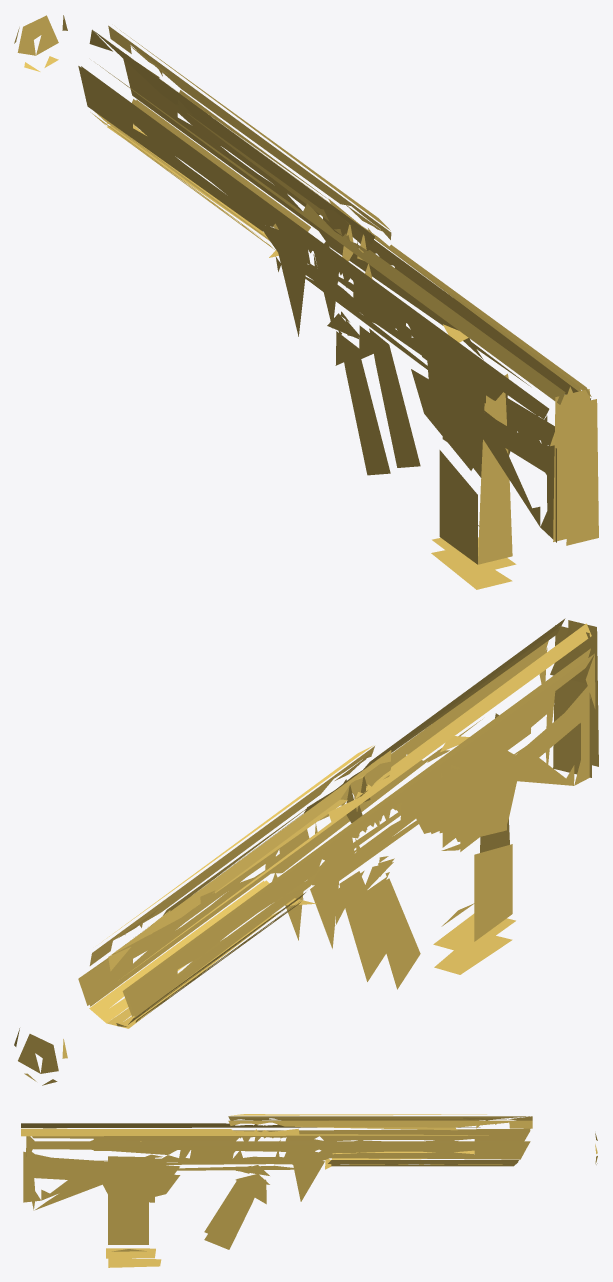
Rendered from charm_mst_fusil_15.glb.
3 views of the same model, one above another, from view 1: azimuth 30°, elevation 25°; view 2: azimuth 150°, elevation 25°; view 3: azimuth 270°, elevation 25° (orthographic). The views are drawn at different scales.
Visible parts, largest first — view 1: p0_accent; view 2: p0_accent; view 3: p0_accent.
Part boxes in pixels (left/top/right/bottom): p0_accent: left=14, top=15, right=598, bottom=589; p0_accent: left=14, top=618, right=598, bottom=1085; p0_accent: left=21, top=1114, right=597, bottom=1267.
Size of the model in its own units: 0.0503 by 0.2427 by 0.88.
